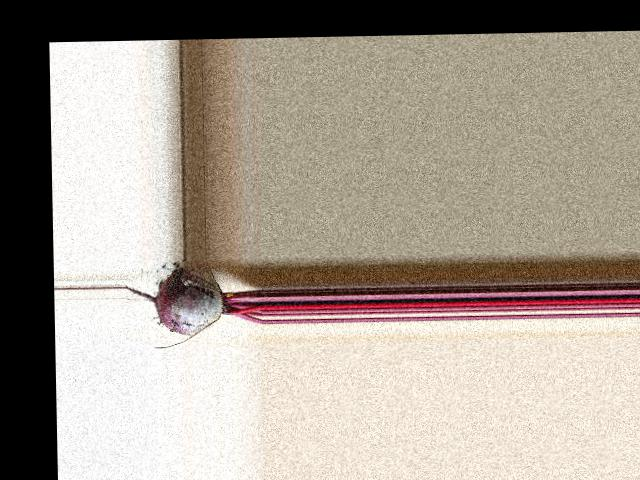beet: (124, 267, 261, 349)
